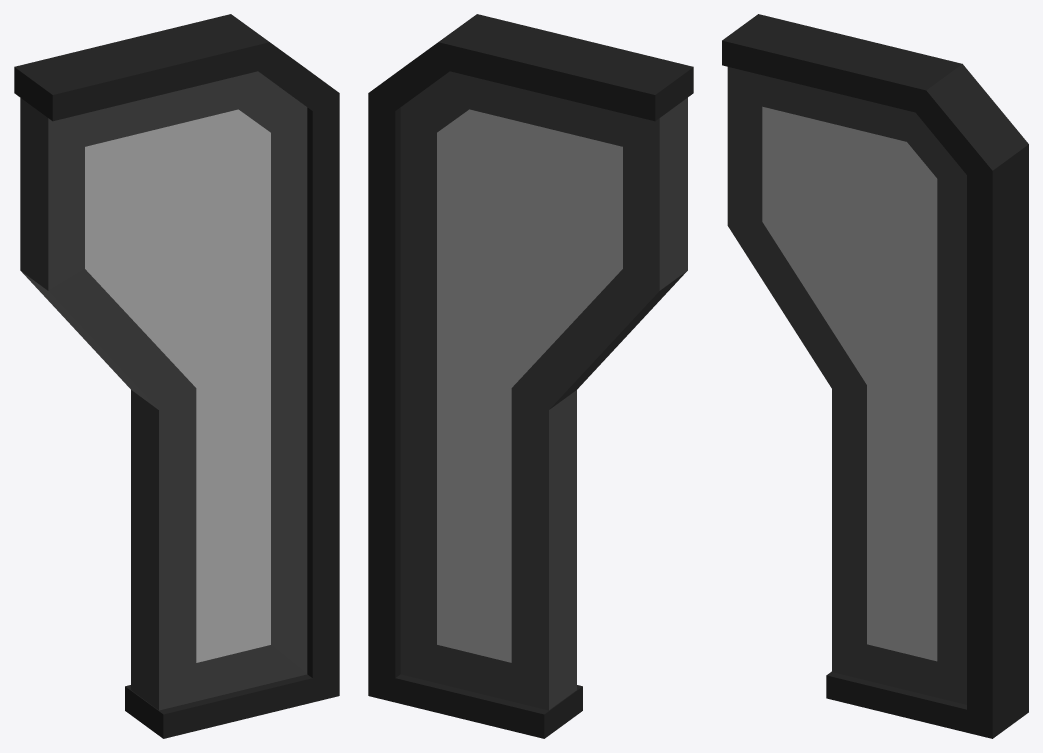
File: door_006.fbx
3 views of the same model, side by side, from view 1: azimuth 30°, elevation 25°; view 2: azimuth 150°, elevation 25°; view 3: azimuth 330°, elevation 25° (orthographic). The views are drawn at different scales.
Visible parts, largest first — view 1: door_006; view 2: door_006; view 3: door_006.
Part boxes in pixels (bbox=[...]): door_006: bbox=[14, 14, 339, 738]; door_006: bbox=[368, 14, 693, 738]; door_006: bbox=[722, 14, 1028, 738].
Bounding box in the file's own units: 97.51 × 22.73 × 218.
